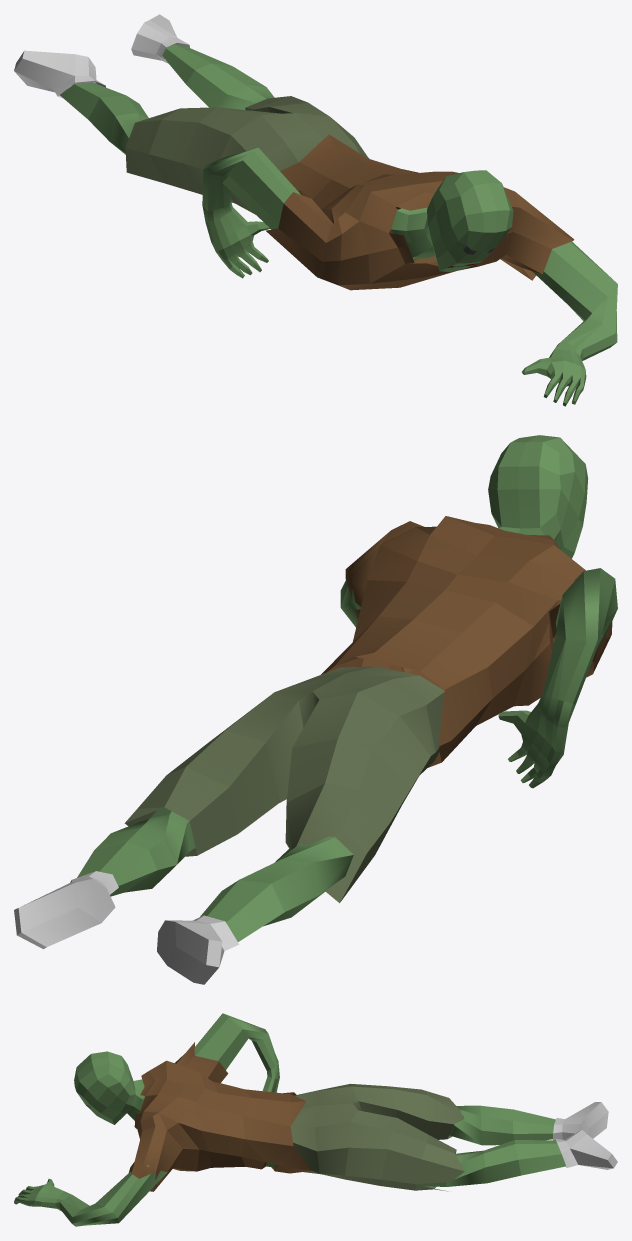
The model's file is ZombieCrawl(59).obj.
3 renders of one model, top to bottom at view 1: azimuth 30°, elevation 25°; view 2: azimuth 150°, elevation 25°; view 3: azimuth 270°, elevation 25°, orthographic. The views are drawn at different scales.
Visible parts, largest first — view 1: Object001; view 2: Object001; view 3: Object001.
Boxes of the visible parts, bbox=[...] form: Object001: bbox=[14, 14, 617, 406]; Object001: bbox=[14, 435, 617, 984]; Object001: bbox=[14, 1013, 617, 1226].
Bounding box in the file's own units: 28.33 × 17.37 × 68.47.
